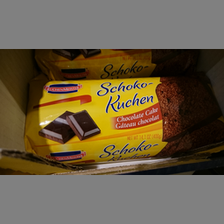cake: (23, 76, 224, 162)
